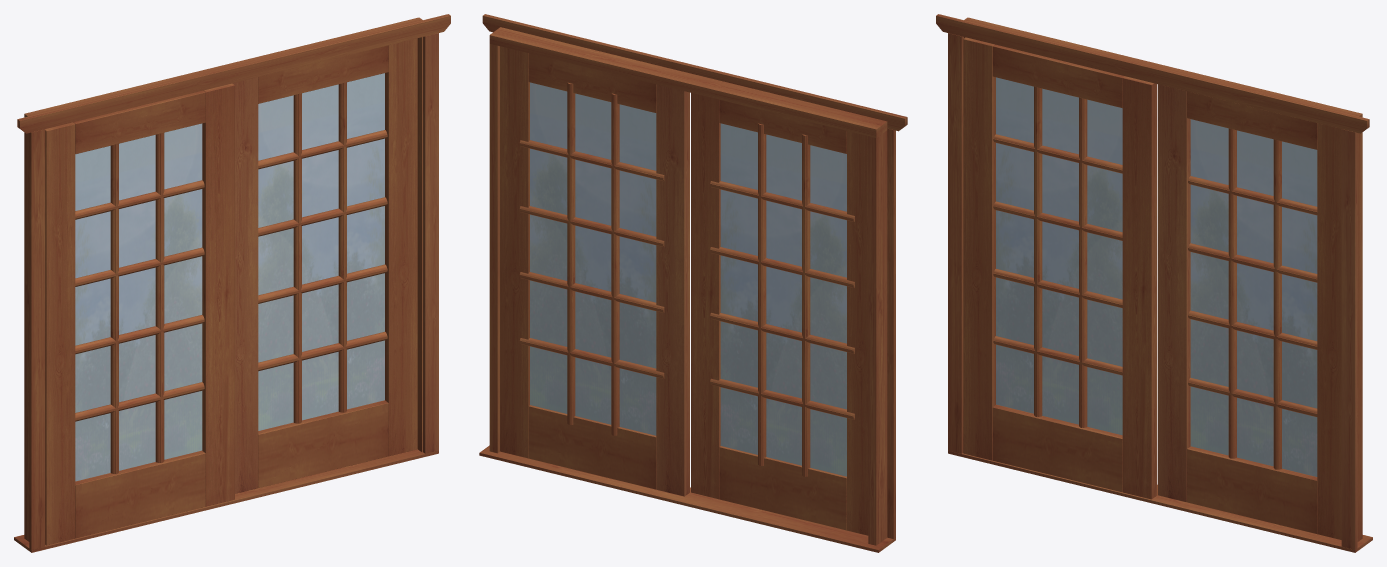
Rendered from sdd8.obj.
3 views of the same model, side by side, from view 1: azimuth 30°, elevation 25°; view 2: azimuth 150°, elevation 25°; view 3: azimuth 330°, elevation 25° (orthographic). The views are drawn at different scales.
Parts seen in each view (by area): view 1: glass, glass001, door_right, door_left001, door_left, door_right001, door_bottom001, door_bottom, trim_top, trim_left, trim_right, door_top (+17 smaller); view 2: glass001, glass, door_right001, door_left001, door_right, door_left, box_left, box_top, door_bottom001, door_bottom, threshold, box_right (+16 smaller); view 3: glass001, glass, door_right, door_left, door_right001, door_left001, door_bottom, door_bottom001, trim_top, trim_right, trim_left, door_top (+16 smaller).
Boxes of the visible parts, box(x1,y1,x2,y2) form: glass: box(75, 123, 202, 481); glass001: box(258, 73, 384, 430); door_right: box(202, 83, 234, 506); door_left001: box(385, 38, 417, 456); door_left: box(45, 122, 75, 545); door_right001: box(232, 77, 258, 493); door_bottom001: box(258, 400, 388, 487); door_bottom: box(75, 450, 205, 538); trim_top: box(17, 14, 450, 133); trim_left: box(29, 129, 45, 549); trim_right: box(423, 33, 438, 453); door_top: box(73, 90, 205, 153); glass001: box(530, 82, 656, 435); glass: box(720, 123, 846, 476); door_right001: box(656, 84, 689, 496); door_left001: box(500, 46, 529, 458); door_right: box(691, 93, 720, 499); door_left: box(847, 131, 868, 535); box_left: box(868, 130, 887, 545); box_top: box(489, 27, 887, 137); door_bottom001: box(528, 405, 656, 489); door_bottom: box(719, 446, 846, 530); threshold: box(479, 445, 895, 552); box_right: box(489, 44, 499, 453); glass001: box(1190, 119, 1317, 476); glass: box(996, 77, 1122, 435); door_right: box(1122, 76, 1157, 499); door_left: box(963, 37, 995, 460); door_right001: box(1158, 84, 1190, 502); door_left001: box(1317, 123, 1341, 539); door_bottom: box(992, 404, 1122, 492); door_bottom001: box(1187, 446, 1317, 533); trim_top: box(936, 14, 1369, 133); trim_right: box(1341, 129, 1357, 549); trim_left: box(948, 33, 963, 453); door_top: box(992, 44, 1124, 107).
Bounding box in the file's own units: 77.81 × 75 × 5.5.
Materials: 9 (9 with a texture image).
